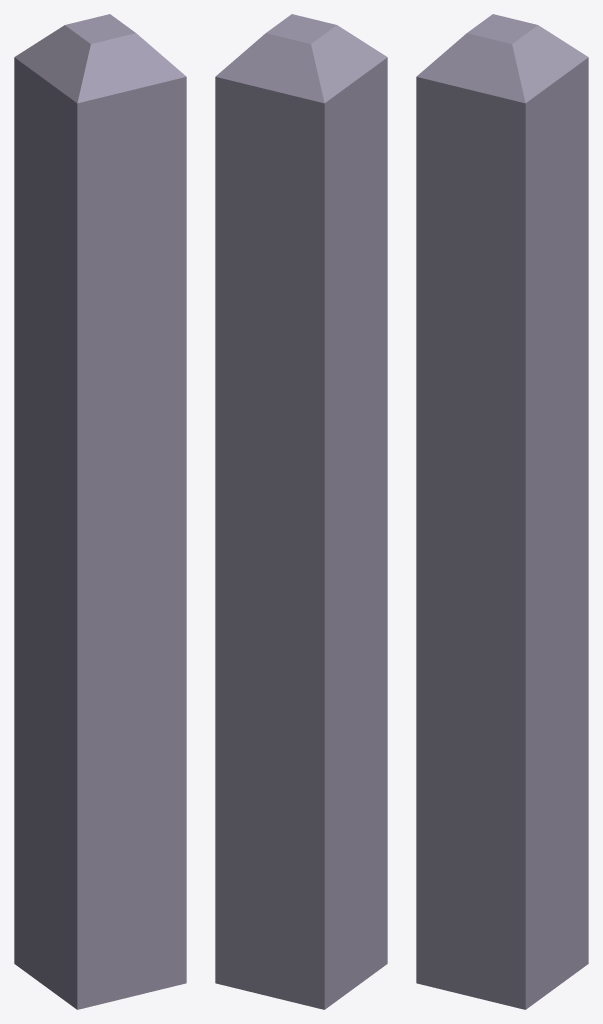
File: fence_modguide_post.fbx
The picture shows the model from 3 angles, left to right: view 1: azimuth 30°, elevation 25°; view 2: azimuth 150°, elevation 25°; view 3: azimuth 330°, elevation 25°; orthographic projection.
Parts seen in each view (by area): view 1: fence_modguide_post; view 2: fence_modguide_post; view 3: fence_modguide_post.
Boxes of the visible parts, <box> form: fence_modguide_post: <box>14,14,186,1009</box>; fence_modguide_post: <box>215,14,387,1009</box>; fence_modguide_post: <box>416,14,588,1009</box>.
Bounding box in the file's own units: 0.0495 × 0.4084 × 0.0495.
